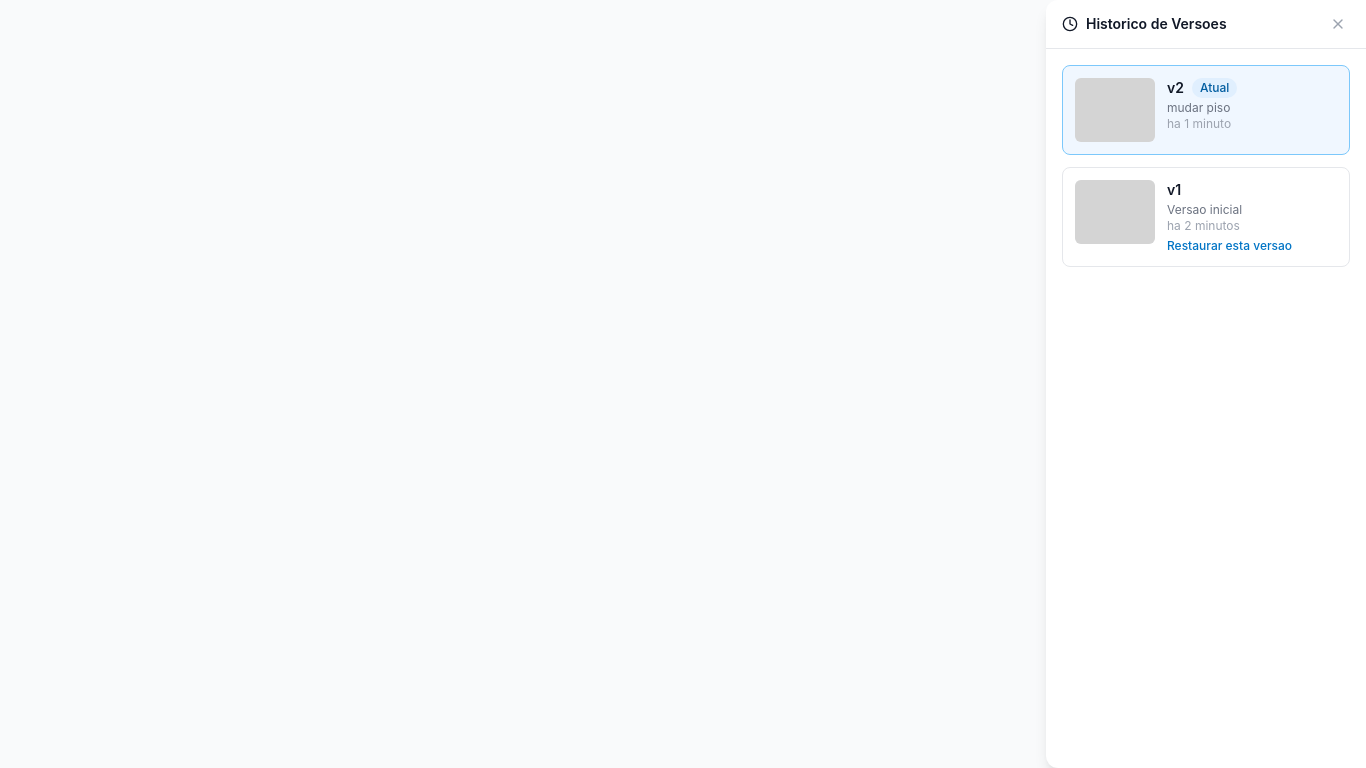
Test: VersionTimeline › shows confirmation dialog on revert click
The image size is (1366, 768).
Click the button "Restaurar esta versao". click: (1230, 246)
box: left=1167, top=238, right=1292, bottom=254
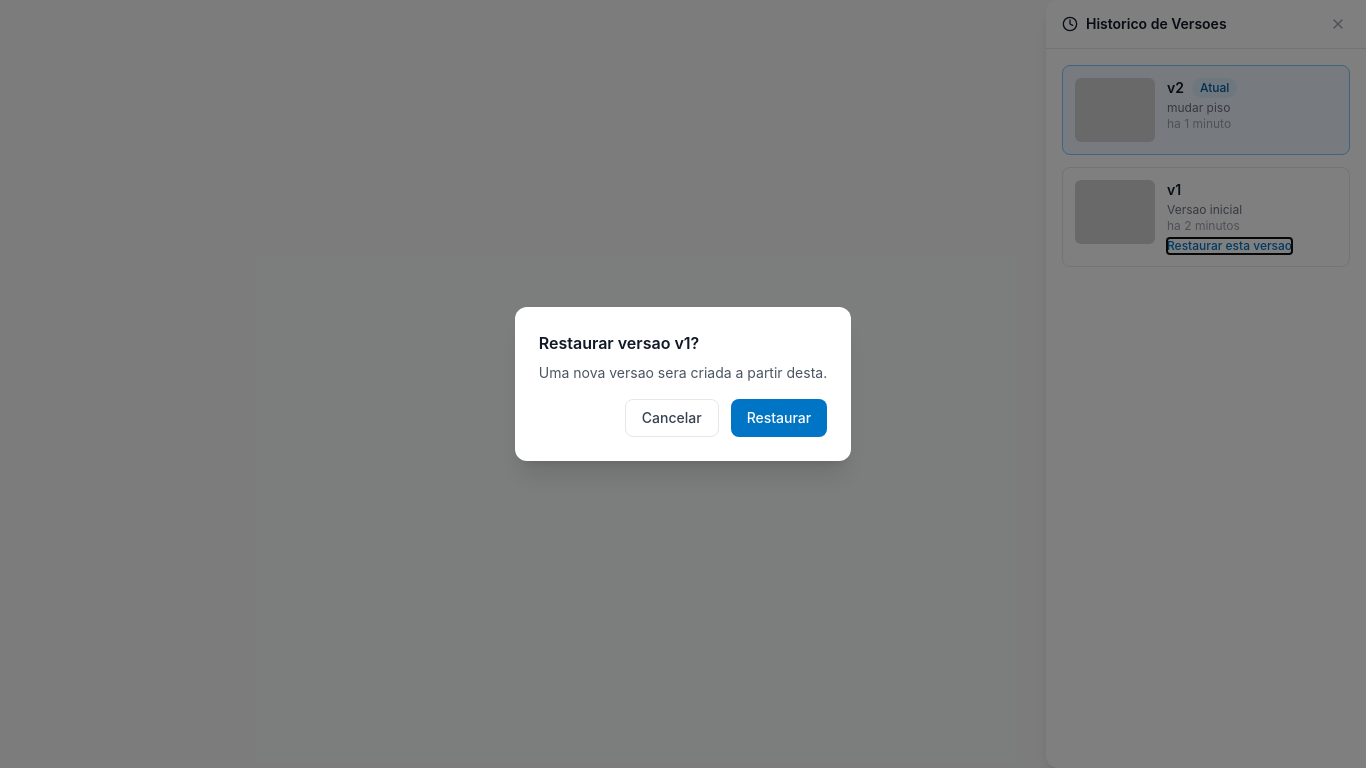
Now the heading "Restaurar versao v1?" is shown, box left=539, top=333, right=699, bottom=353
Now the text "Uma nova versao sera criada a partir desta." is shown, box left=539, top=363, right=827, bottom=383
